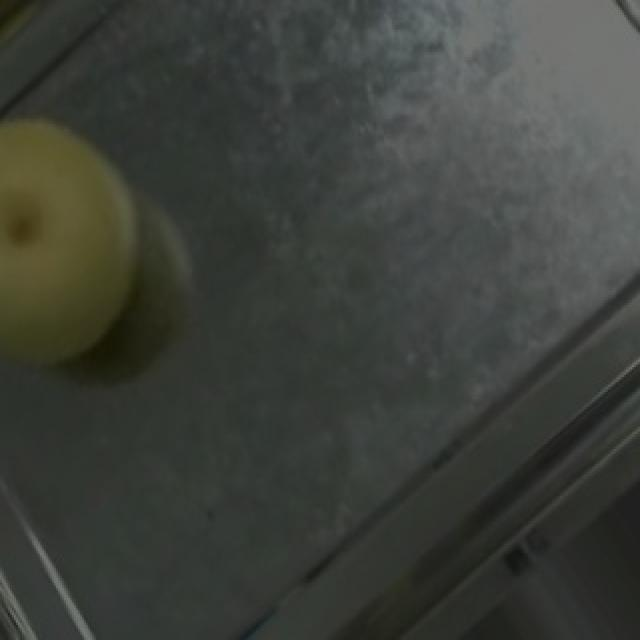Fruit: (0, 74, 190, 397)
